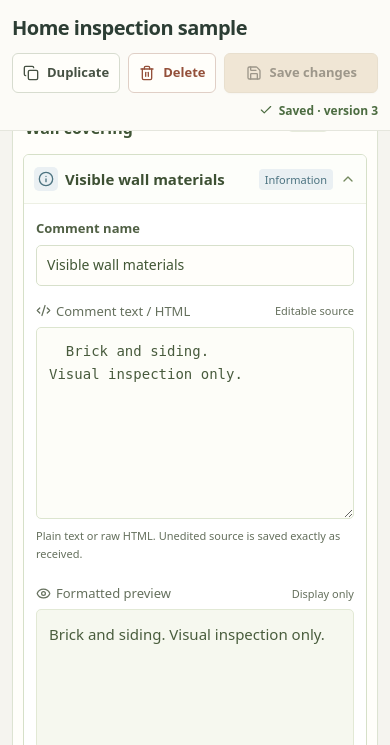
Test: end-to-end client state with unit-test API mocks › keeps unsaved comment text when navigating with the compact section selector
(page scrolled)
Expected: the field named "Template name" holds "Home inspection sample", [7,10,373,45]
Replace the text in the text box labelled "Comment text / HTML" with "Keep this section draft.": (195, 423) [36,327,354,519]
(page scrolled)
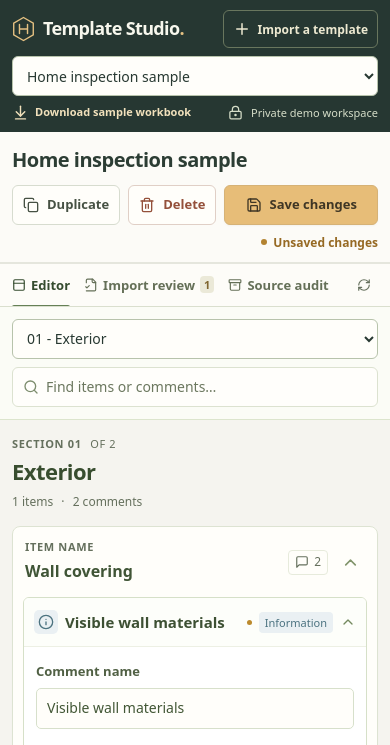
Select "02 - Roofing" in the dropdown named "Select section" below "Unsaved changes": (195, 339) [12,319,378,359]
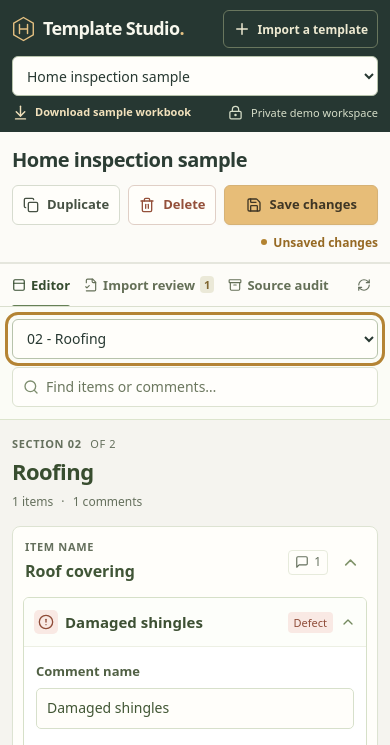
Result: the field named "Section name" holds "Roofing" at [7,455,377,488]
Select "01 - Exterior" in the dropdown named "Select section" below "Unsaved changes": (195, 339) [12,319,378,359]
(page scrolled)
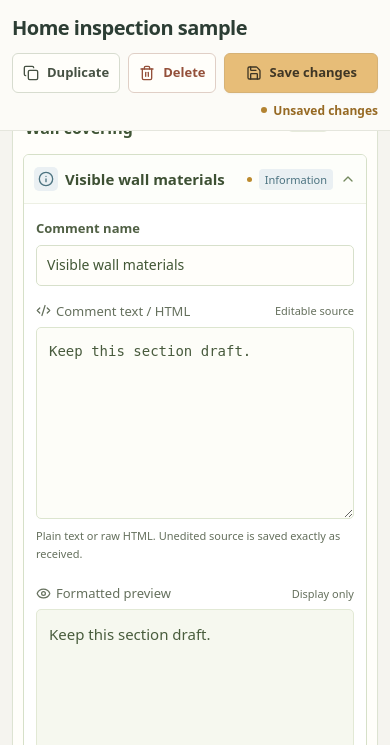
Result: the text box labelled "Comment text / HTML" holds "Keep this section draft." at [36,327,354,519]
